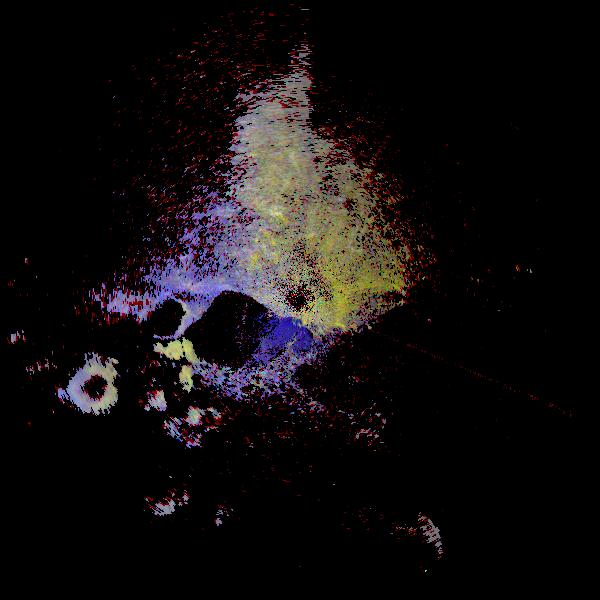roost: (50, 336, 146, 432)
